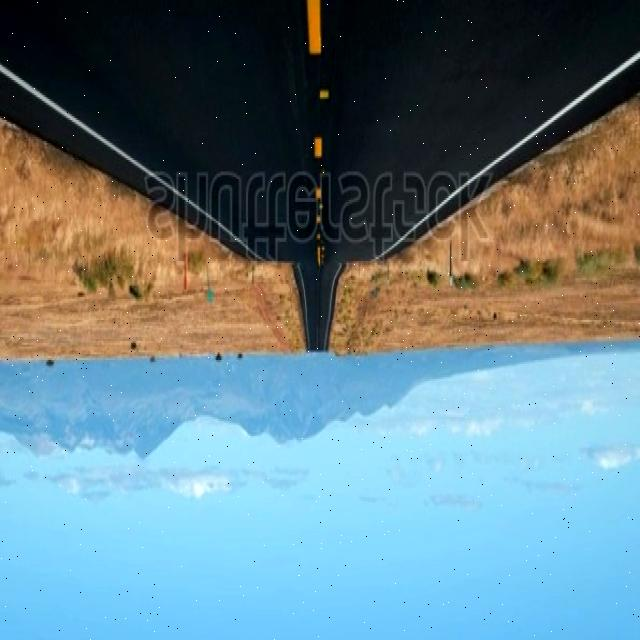lane: (307, 2, 321, 55), (314, 137, 322, 160), (318, 90, 329, 101)
